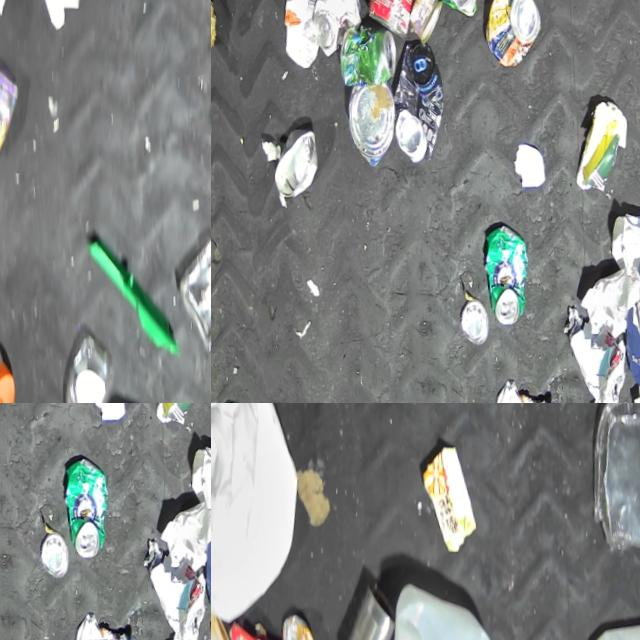can: (386, 37, 451, 163), (483, 220, 536, 325), (63, 453, 116, 558), (334, 564, 401, 640), (344, 79, 401, 167), (480, 0, 545, 66), (339, 19, 401, 87), (0, 52, 31, 183), (271, 125, 323, 202), (308, 0, 366, 56), (358, 0, 433, 38), (405, 0, 447, 41), (460, 294, 493, 343), (40, 527, 73, 576), (421, 0, 479, 17)
milk_jug: (211, 403, 312, 627), (377, 567, 515, 640)
